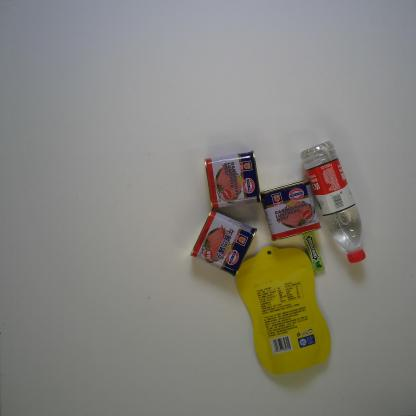Canned Food: (190, 209, 258, 278), (260, 180, 322, 242), (204, 149, 262, 210)
Dried Fruit: (235, 245, 331, 375)
Drink: (300, 140, 366, 264)
Gum: (302, 231, 326, 272)
